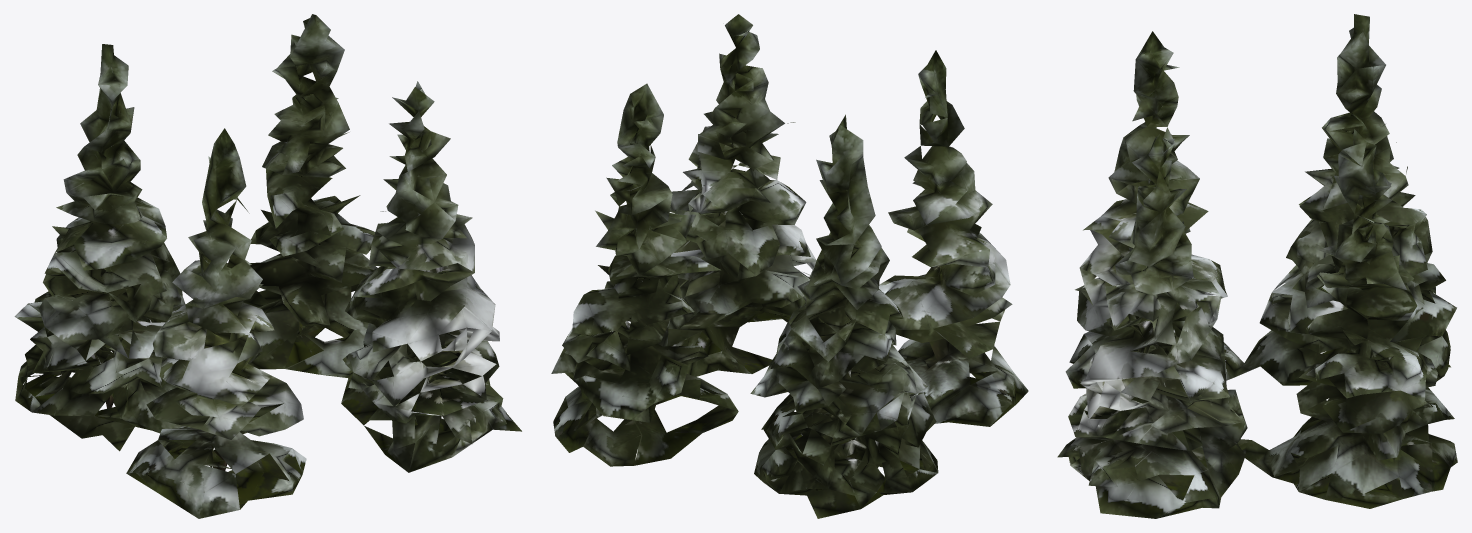
The model's file is pine2.glb.
3 views of the same model, side by side, from view 1: azimuth 30°, elevation 25°; view 2: azimuth 150°, elevation 25°; view 3: azimuth 270°, elevation 25° (orthographic).
Parts seen in each view (by area): view 1: geometry_0; view 2: geometry_0; view 3: geometry_0.
Part boxes in pixels (bbox=[...]): geometry_0: bbox=[14, 14, 521, 518]; geometry_0: bbox=[551, 14, 1028, 518]; geometry_0: bbox=[1057, 14, 1457, 518].
Size of the model in its own units: 0.8848 by 0.8444 by 0.8128.
1 material, 1 textured.
